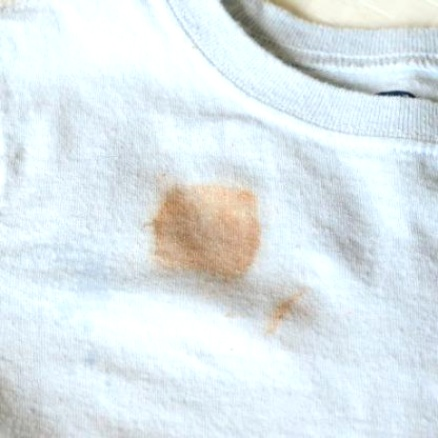kimchi: (137, 186, 264, 285), (266, 280, 311, 341)
